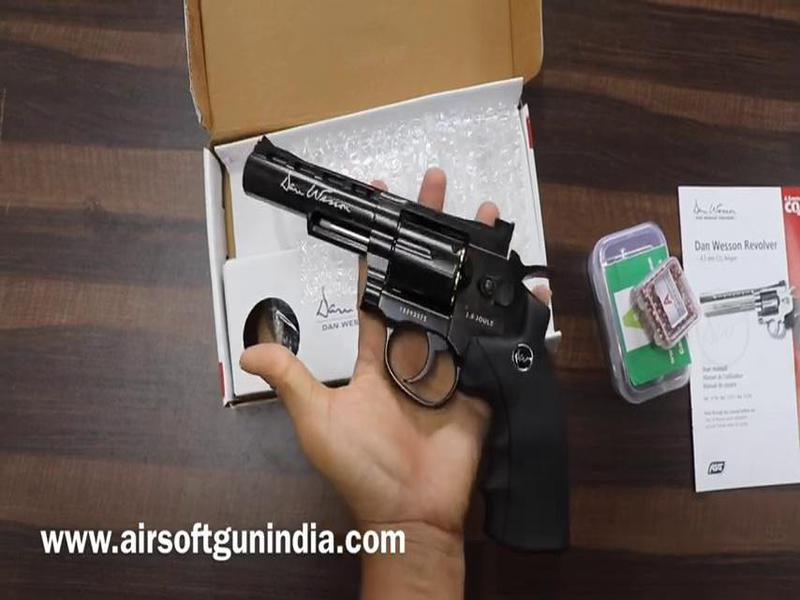Revolver: (226, 114, 597, 573)
